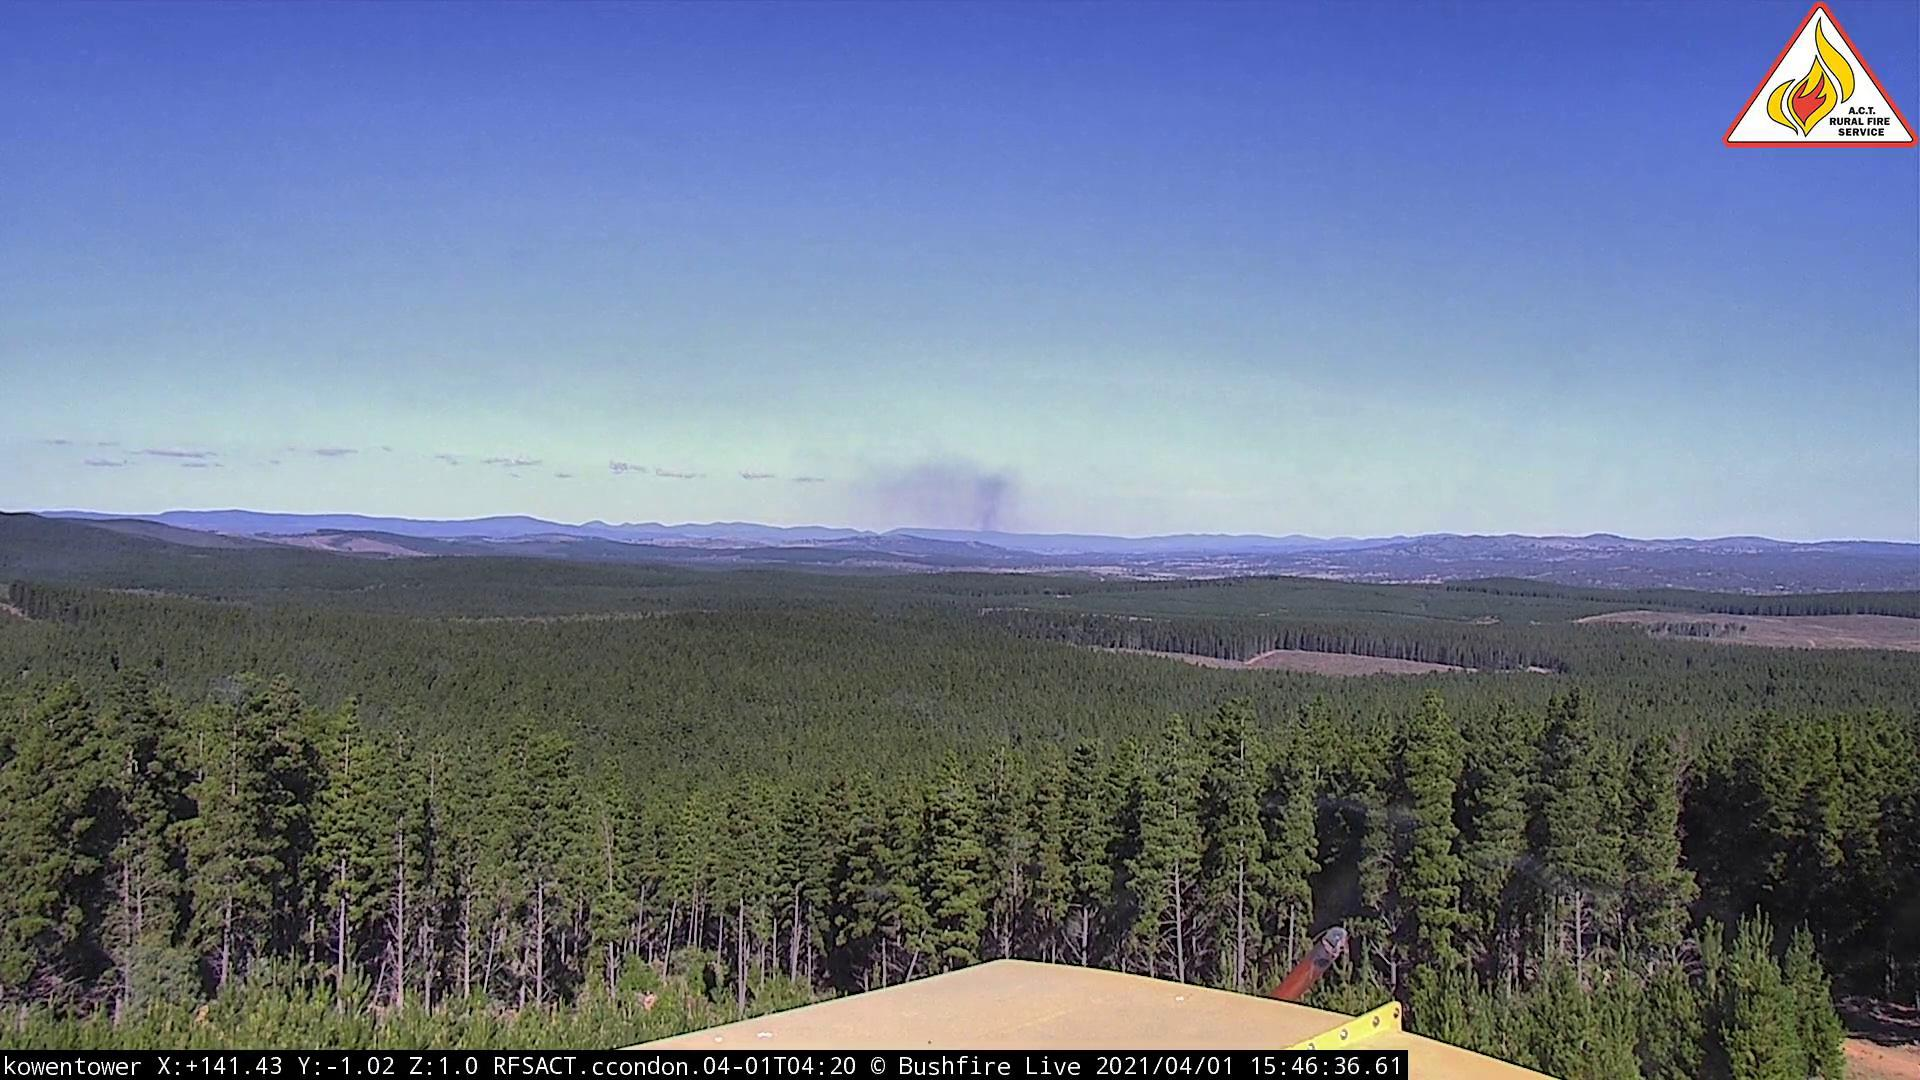Smoke: (847, 427, 1035, 549)
